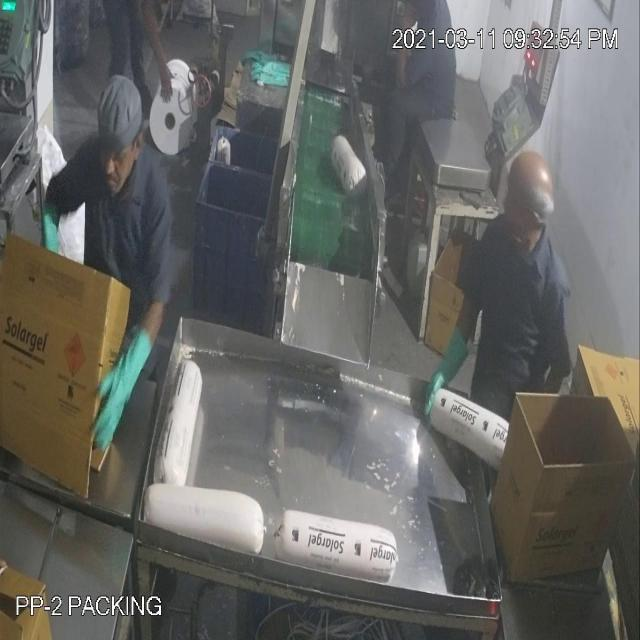No_Gloves: (139, 1, 177, 121)
